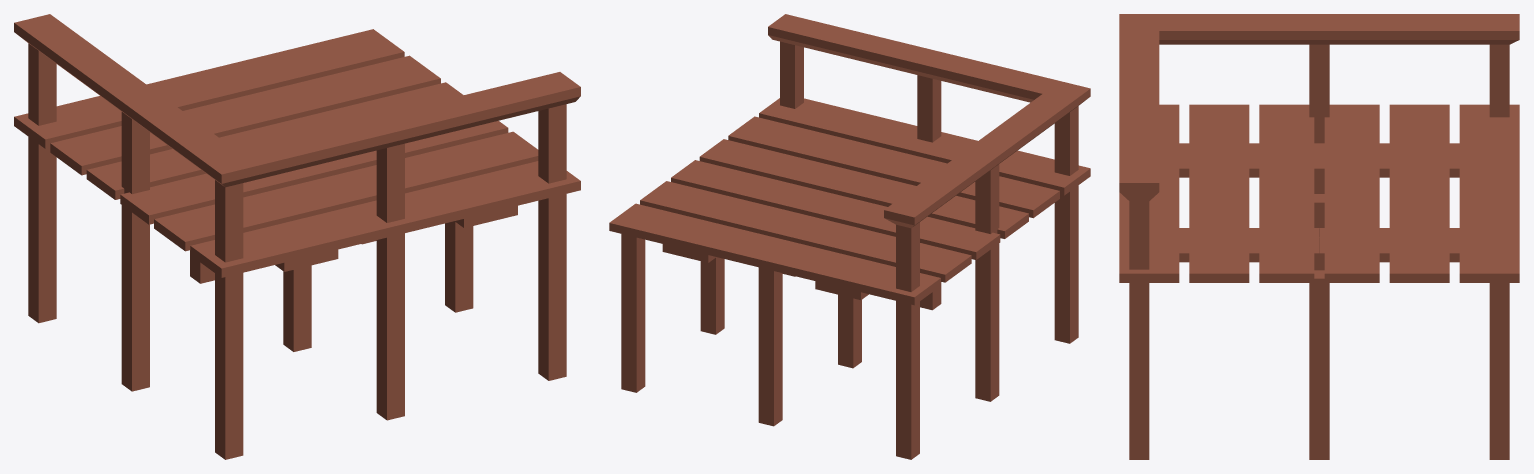
File: scaffold_medium_cornerRight 1.fbx
The picture shows the model from 3 angles, left to right: view 1: azimuth 30°, elevation 25°; view 2: azimuth 150°, elevation 25°; view 3: azimuth 270°, elevation 25°; orthographic projection. The views are drawn at different scales.
Visible parts, largest first — view 1: scaffold_medium_cornerRight; view 2: scaffold_medium_cornerRight; view 3: scaffold_medium_cornerRight.
Part boxes in pixels (<box>): scaffold_medium_cornerRight: <box>14,14,580,459</box>; scaffold_medium_cornerRight: <box>609,14,1090,459</box>; scaffold_medium_cornerRight: <box>1119,14,1519,459</box>.
Size of the model in its own units: 400 by 310 by 400.
